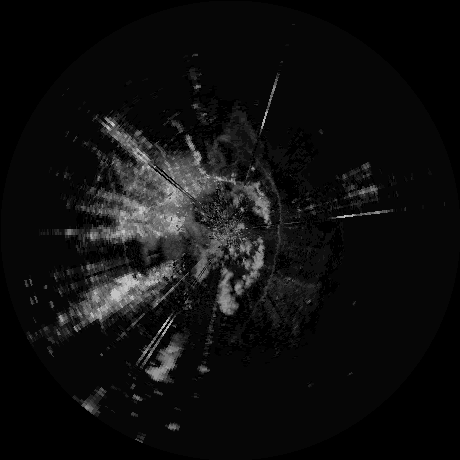frontgust: (270, 183, 284, 285), (246, 285, 268, 327), (244, 149, 273, 179)
